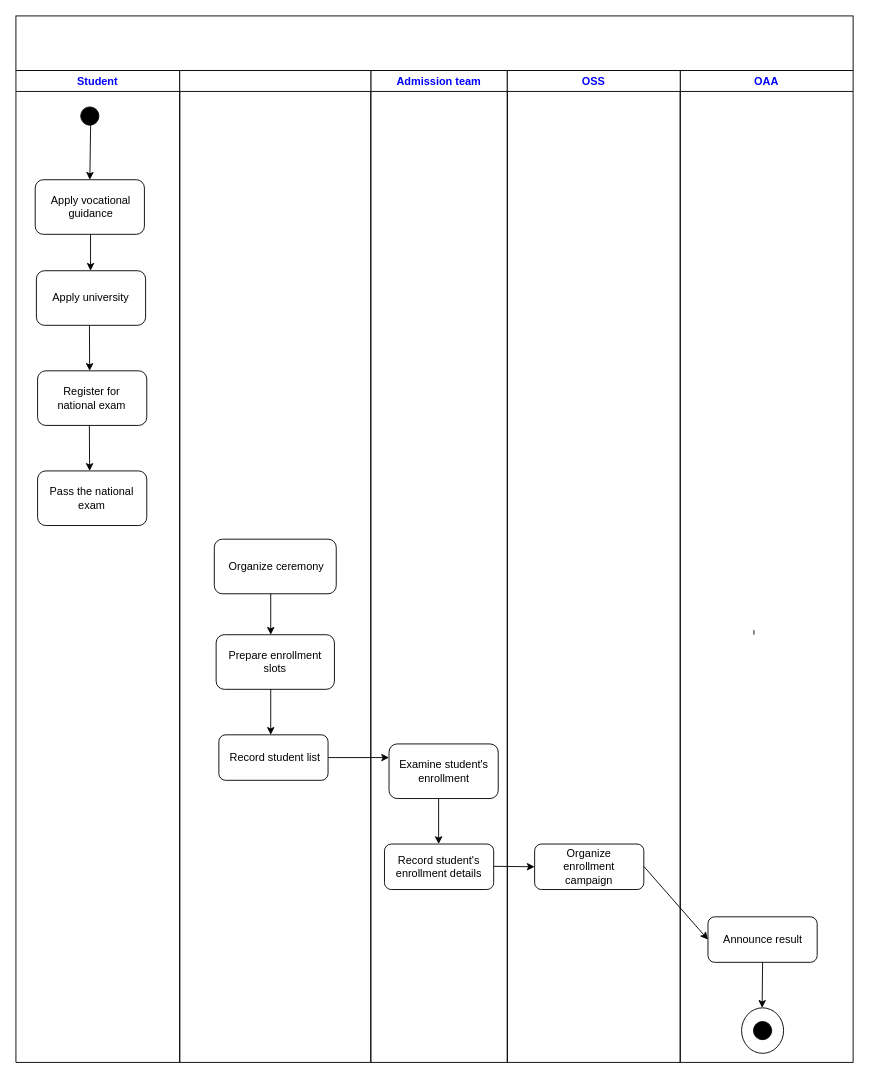
The diagram is 869 pixels wide and 1078 high, and some of its shapes have lost their labels. Here are the shapes that lost their labels. From the top down, the box of each, then its label:
(15, 15, 853, 71): Student enrollment
(179, 70, 371, 1062): Student's Department
